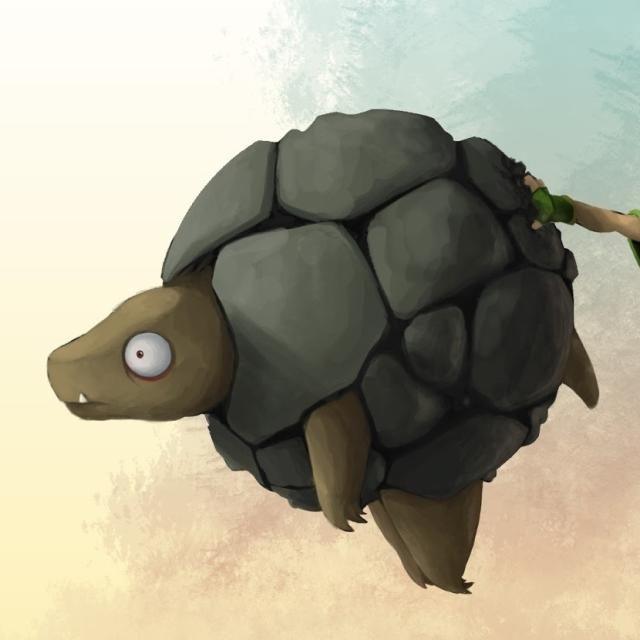Golem: (39, 115, 594, 540)
